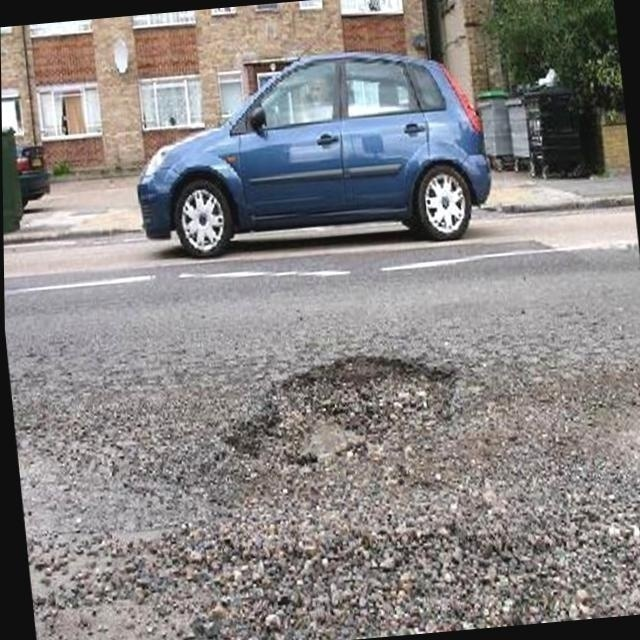pothole: (243, 342, 446, 468)
